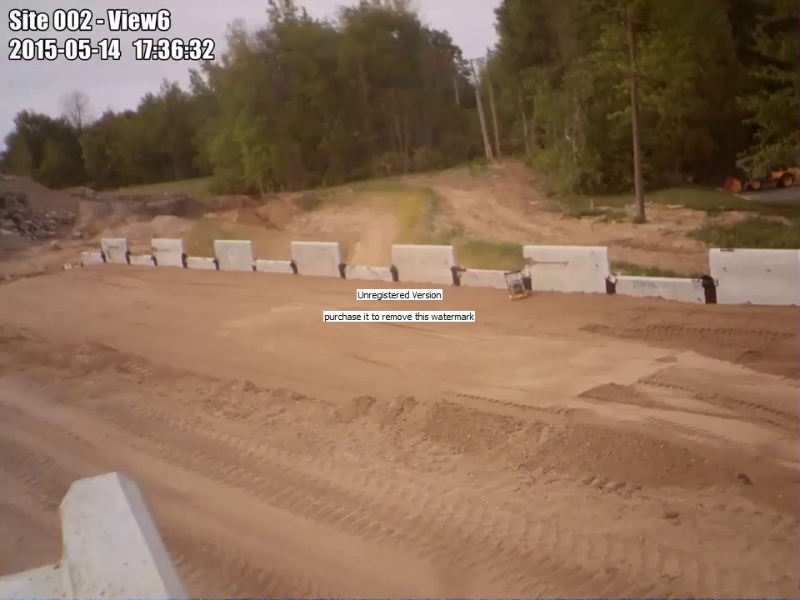wall: (80, 236, 800, 310)
